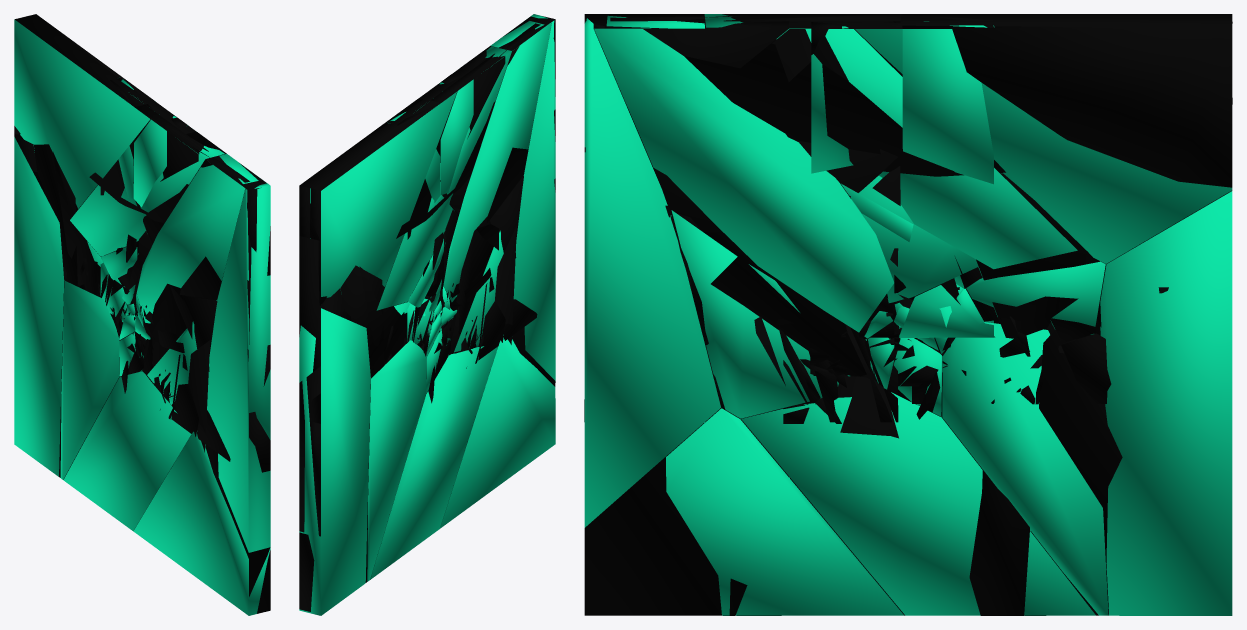
Rendered from vidrioNuevo.glb.
3 views of the same model, side by side, from view 1: azimuth 30°, elevation 25°; view 2: azimuth 150°, elevation 25°; view 3: azimuth 270°, elevation 25° (orthographic). The views are drawn at different scales.
Visible parts, largest first — view 1: Object_5_cell.003, Object_5_cell.004, Object_5_cell.001, Object_5_cell.002, Object_5_cell.019, Object_5_cell.015, Object_5_cell.009, Object_4_cell.016, Object_5_cell.018, Object_4.004_cell.002, Object_5.001_cell.011, Object_4_cell.017 (+19 smaller); view 2: Object_5_cell.004, Object_5_cell.001, Object_5_cell.002, Object_5_cell.019, Object_5_cell.003, Object_5_cell.015, Object_5_cell.009, Object_4_cell.016, Object_5_cell.018, Object_5.001_cell.011, Object_4_cell.019, Object_4.004_cell.002 (+21 smaller); view 3: Object_5_cell.004, Object_5_cell.003, Object_5_cell.015, Object_5_cell.002, Object_4.004_cell.006, Object_5_cell.019, Object_5_cell.009, Object_5_cell.001, Object_4_cell.016, Object_4_cell.017, Object_5_cell.018, Object_5.001_cell.002 (+17 smaller).
Part boxes in pixels (x1,y1,x2,y2): Object_5_cell.003: (207, 183, 270, 552); Object_5_cell.004: (14, 137, 64, 476); Object_5_cell.001: (14, 19, 150, 208); Object_5_cell.002: (63, 371, 191, 530); Object_5_cell.019: (133, 431, 270, 615); Object_5_cell.015: (136, 154, 258, 323); Object_5_cell.009: (60, 280, 119, 479); Object_4_cell.016: (15, 14, 266, 223); Object_5_cell.018: (70, 146, 224, 256); Object_4.004_cell.002: (34, 144, 77, 286); Object_5.001_cell.011: (133, 119, 166, 207); Object_4_cell.017: (205, 207, 270, 613); Object_5_cell.004: (299, 308, 370, 615); Object_5_cell.001: (310, 91, 457, 297); Object_5_cell.002: (370, 346, 497, 579); Object_5_cell.019: (440, 335, 555, 528); Object_5_cell.003: (513, 14, 555, 380); Object_5_cell.015: (443, 17, 551, 302); Object_5_cell.009: (367, 340, 426, 581); Object_4_cell.016: (300, 16, 554, 240); Object_5_cell.018: (376, 46, 511, 310); Object_5.001_cell.011: (440, 79, 473, 194); Object_4_cell.019: (299, 366, 320, 536); Object_4.004_cell.002: (340, 265, 384, 377); Object_5_cell.004: (1100, 191, 1232, 615); Object_5_cell.003: (584, 18, 720, 527); Object_5_cell.015: (594, 15, 894, 332); Object_5_cell.002: (741, 392, 1095, 615); Object_4.004_cell.006: (902, 22, 1232, 187); Object_5_cell.019: (666, 408, 903, 615); Object_5_cell.009: (942, 322, 1108, 615); Object_5_cell.001: (855, 29, 1232, 263); Object_4_cell.016: (584, 14, 1232, 176); Object_4_cell.017: (584, 147, 721, 615); Object_5_cell.018: (704, 14, 1077, 269); Object_5.001_cell.002: (902, 25, 994, 184).
Bounding box in the file's own units: 0.1134 × 2.1 × 2.1.
